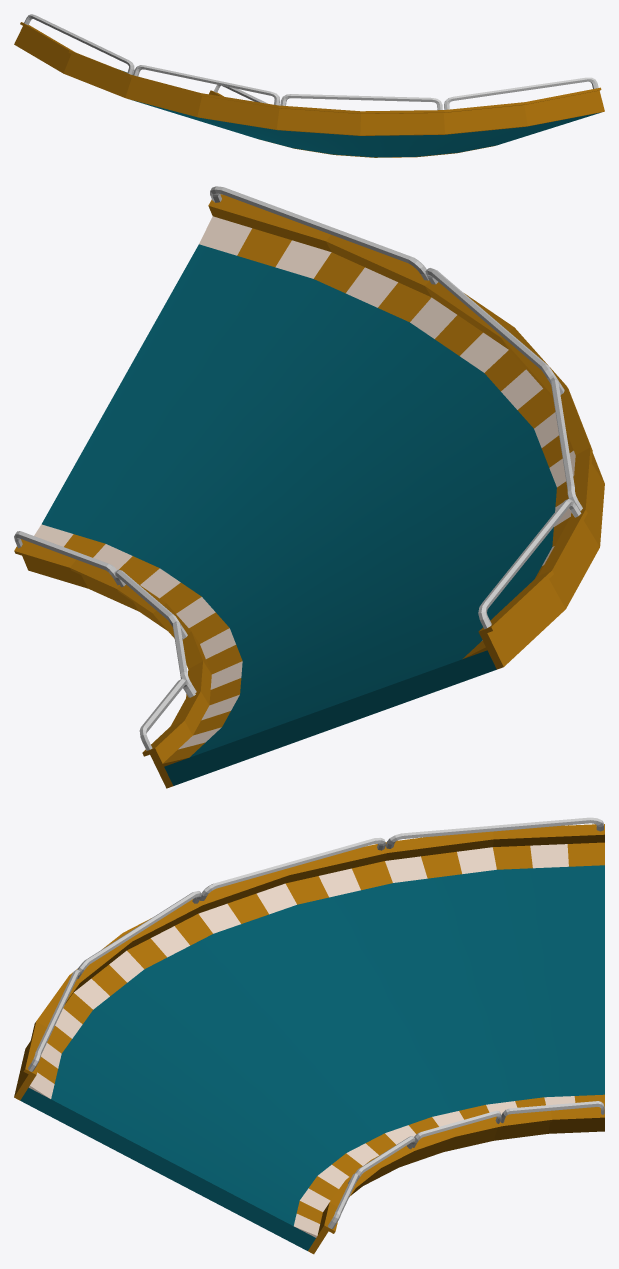
Rendered from bankedRight-90-30_m.FBX.
3 renders of one model, top to bottom at view 1: azimuth 30°, elevation 25°; view 2: azimuth 150°, elevation 25°; view 3: azimuth 270°, elevation 25°, orthographic. The views are drawn at different scales.
Visible parts, largest first — view 1: wall_l, bankedRight-90-30_m, wall_r; view 2: bankedRight-90-30_m, wall_l, curbs_l, wall_r, curbs_r; view 3: bankedRight-90-30_m, curbs_l, wall_l, wall_r, curbs_r.
Part boxes in pixels (x1,y1,x2,y2): wall_l: [14, 14, 604, 135]; bankedRight-90-30_m: [119, 69, 601, 157]; wall_r: [209, 84, 495, 157]; bankedRight-90-30_m: [42, 244, 556, 785]; wall_l: [208, 186, 604, 669]; curbs_l: [199, 216, 575, 659]; wall_r: [14, 531, 211, 788]; curbs_r: [34, 524, 242, 766]; bankedRight-90-30_m: [20, 865, 604, 1250]; curbs_l: [29, 842, 604, 1098]; wall_l: [14, 817, 604, 1100]; wall_r: [308, 1101, 604, 1254]; curbs_r: [294, 1094, 604, 1237].
Size of what is drawn, in the model's own units: 341 by 126 by 341.
